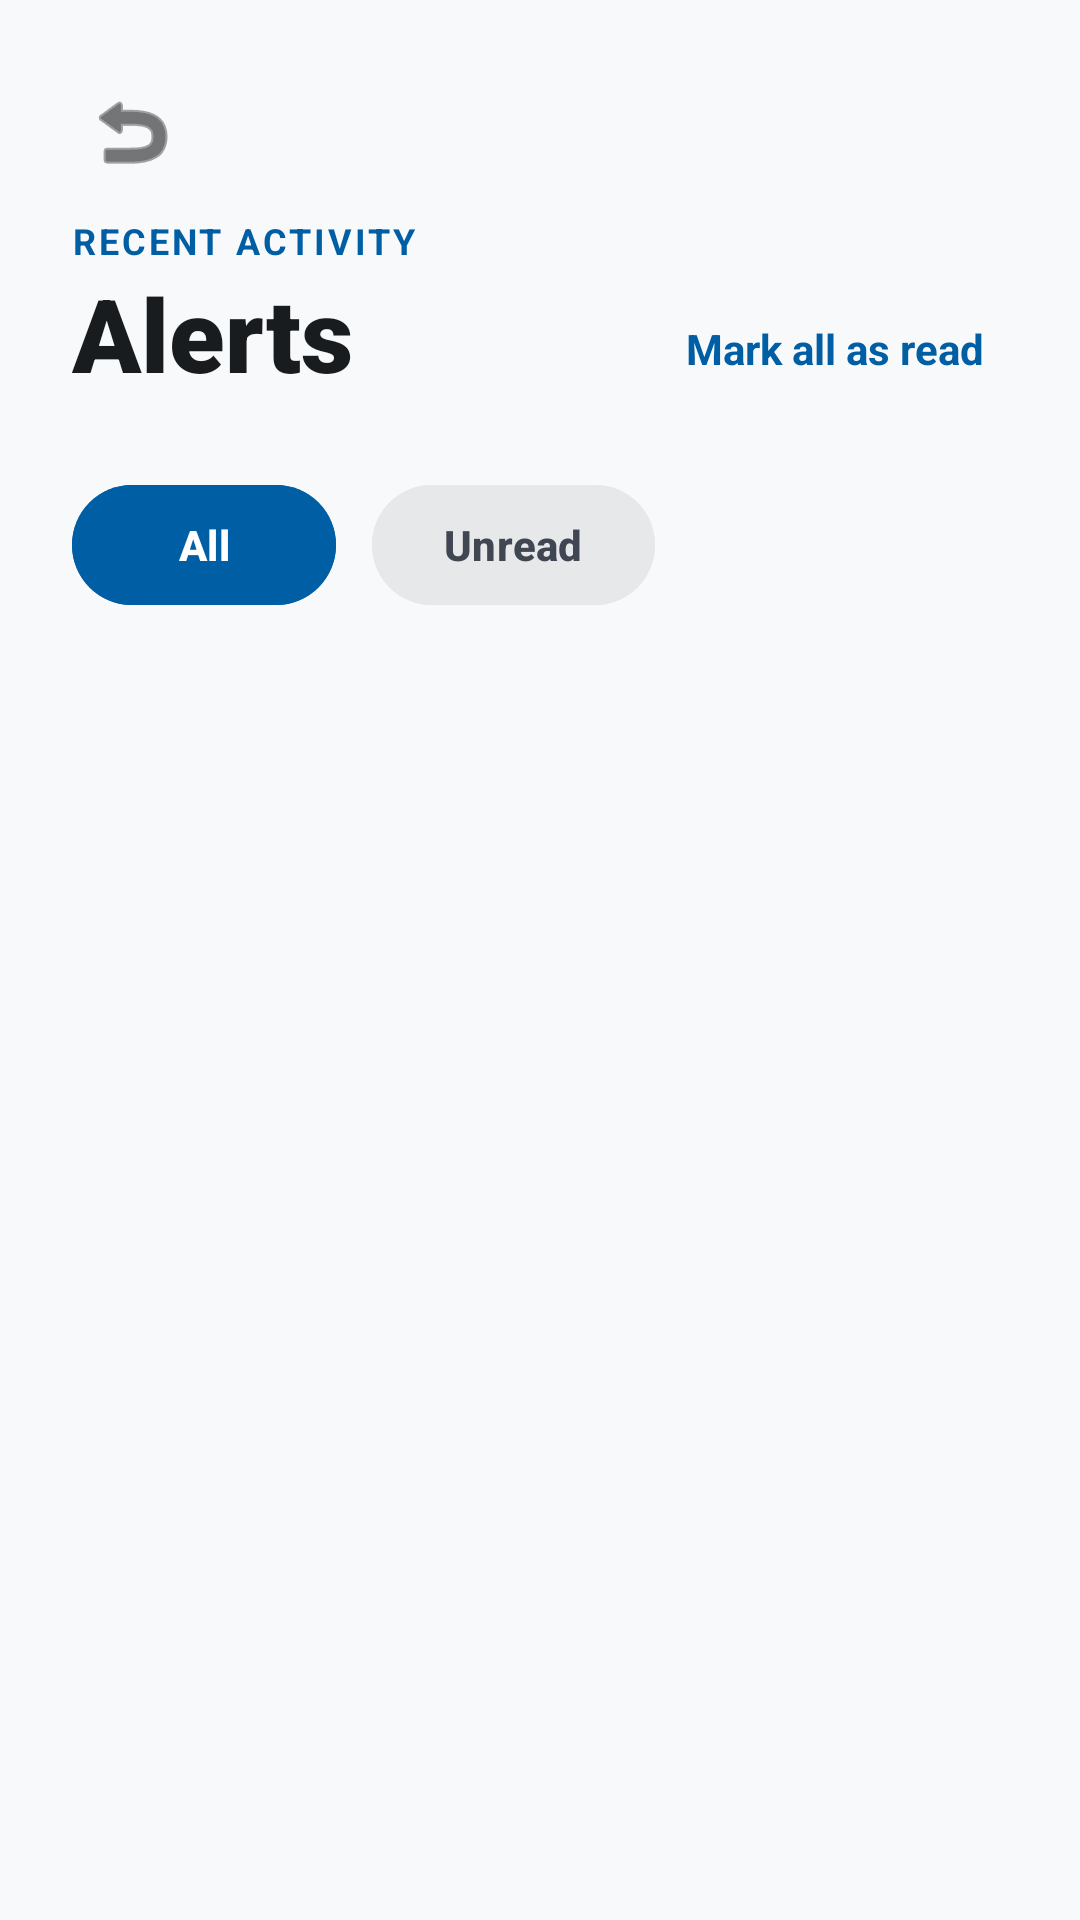

Named icons in this screenshot (1080x1920) and their centers, point (x, y):
revert: point (133, 132)
